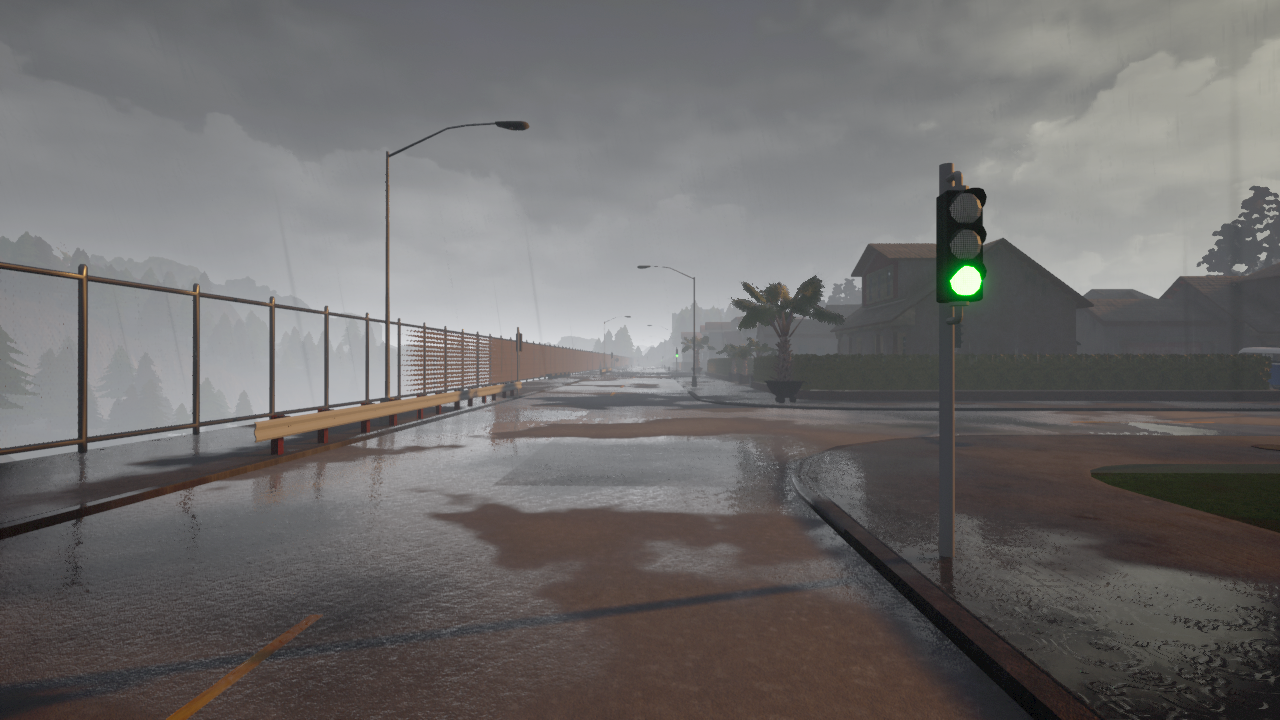green: (932, 185, 988, 303)
